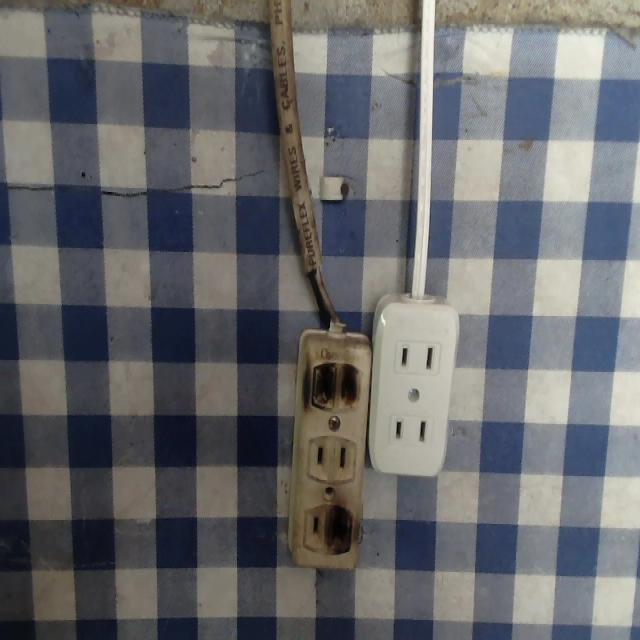-: (310, 358, 363, 413), (323, 501, 352, 560)
